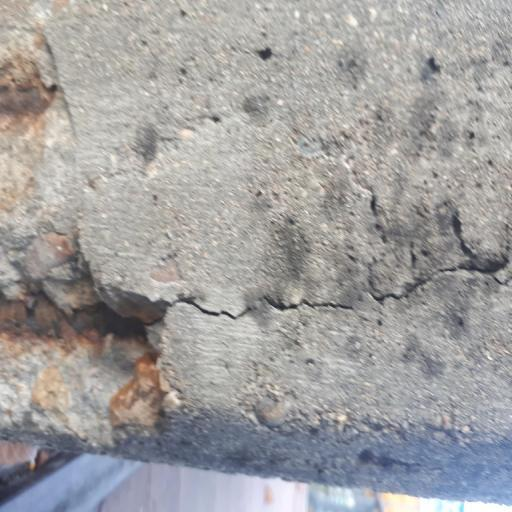exposed_rebar: (0, 293, 146, 345)
spalling: (0, 0, 163, 448)
